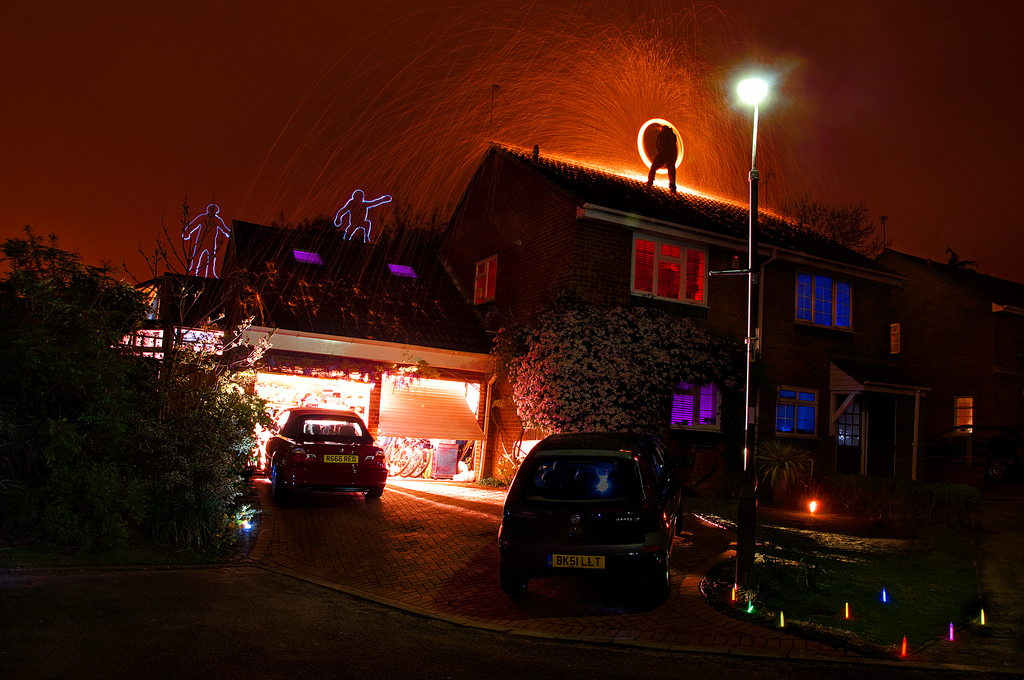car: (261, 397, 394, 514)
